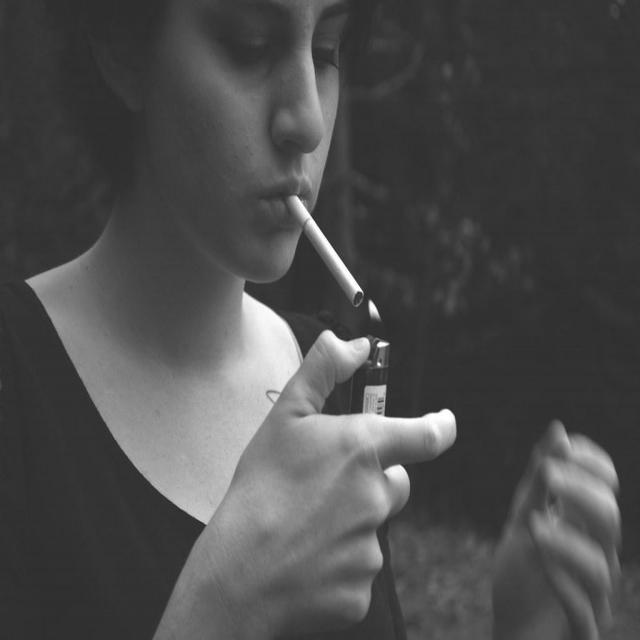Сигарета: (287, 192, 365, 308)
Тело: (20, 6, 457, 636)
